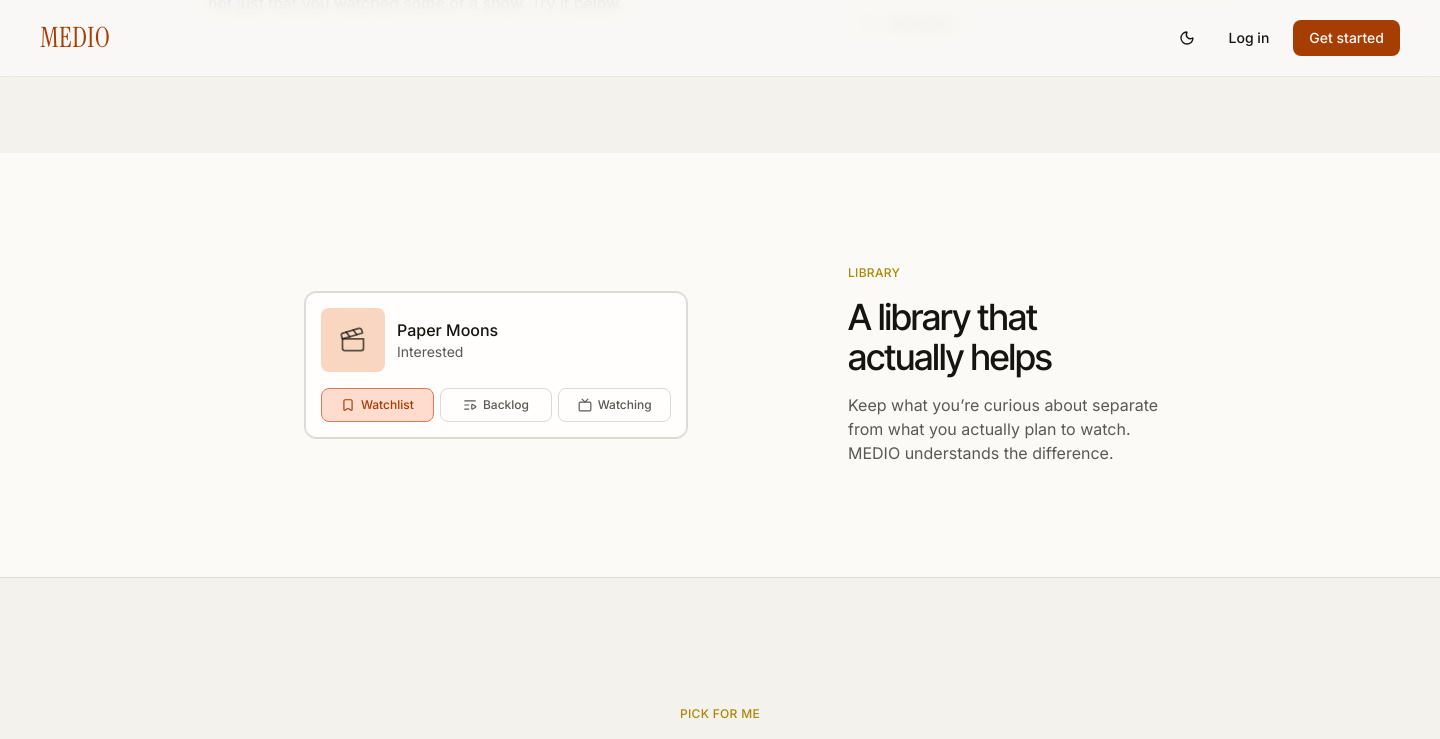
Test: LandingPage › the Library demo genuinely switches state on click
(page scrolled)
Expected: the text "Interested" is shown, left=397, top=343, right=463, bottom=360
Click the button "Backlog".
click(496, 405)  # box left=440, top=388, right=552, bottom=422
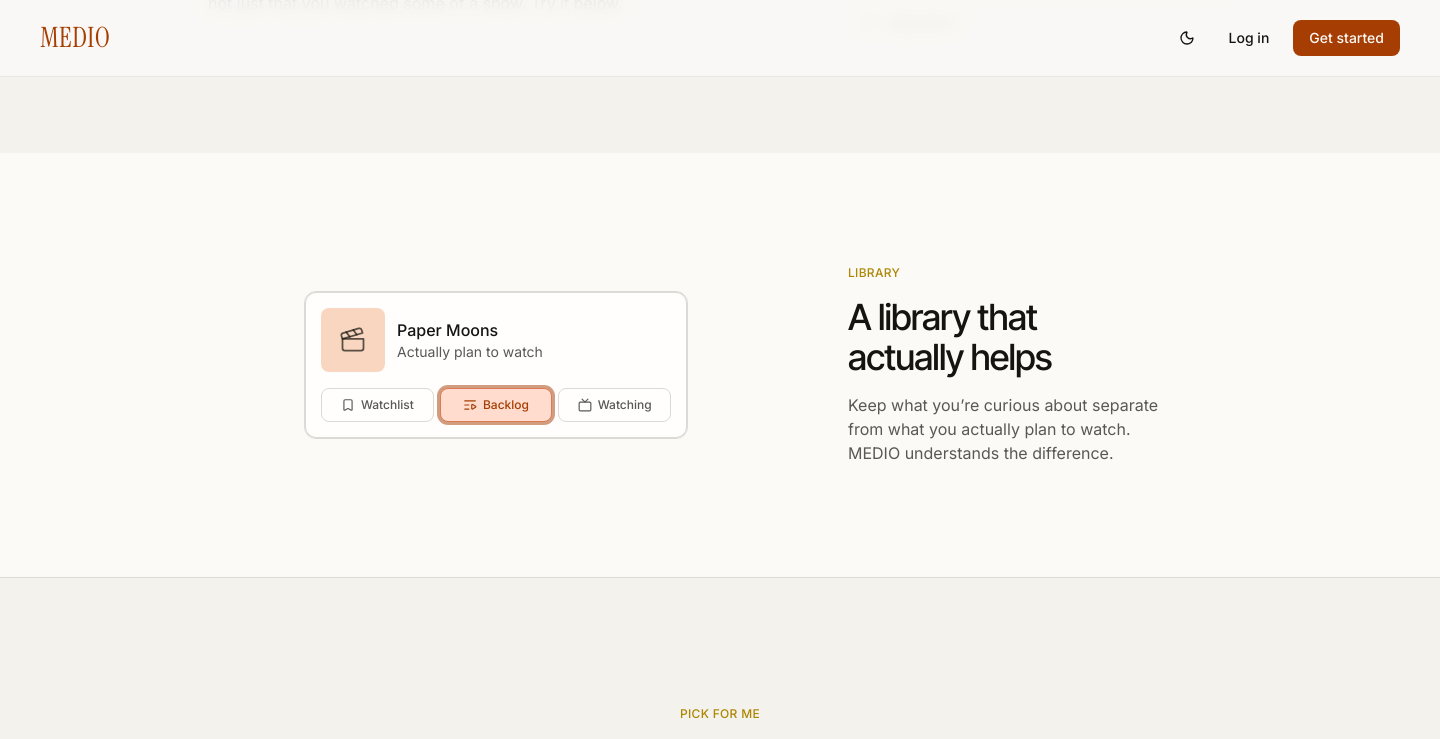
Expected: the text "Actually plan to watch" is shown, left=397, top=343, right=543, bottom=360
